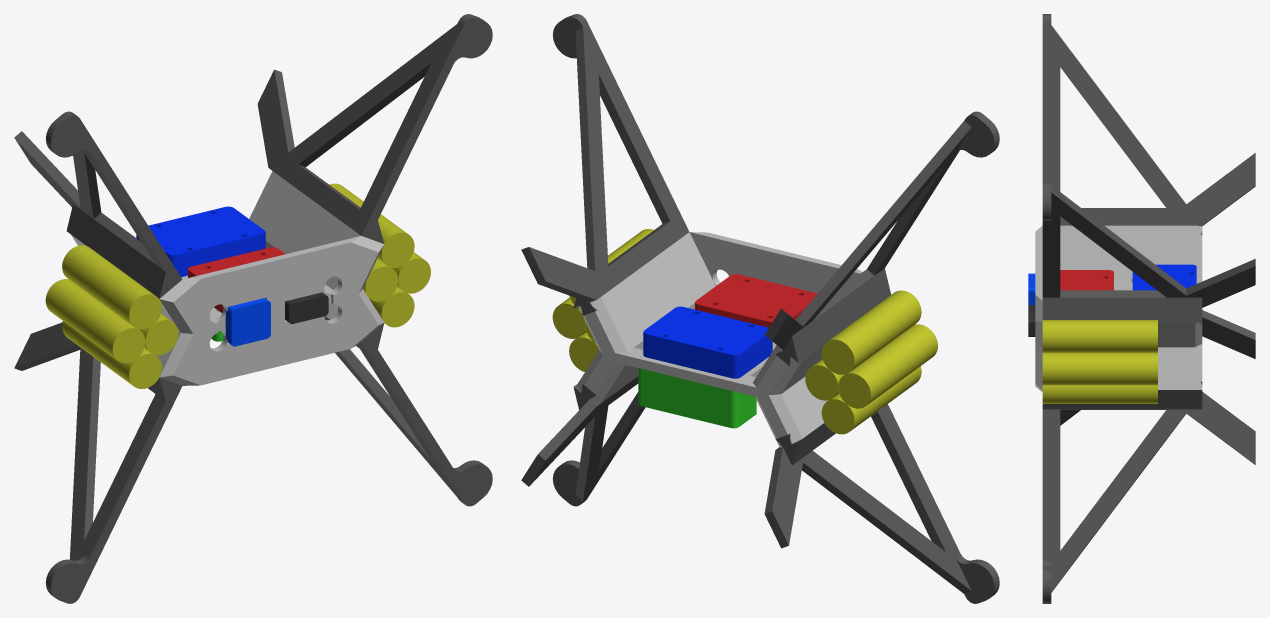
Rendered from swarmING.obj.
The picture shows the model from 3 angles, left to right: view 1: azimuth 30°, elevation 25°; view 2: azimuth 150°, elevation 25°; view 3: azimuth 270°, elevation 25°; orthographic projection. The views are drawn at different scales.
Visible parts, largest first — view 1: Solid1, Solid1:14, Solid1:15, Solid1:12, Solid1:13, Solid1:2, Solid1:6, Solid1:7, Solid1:5, Solid1:17, Solid1:9, Solid1:1 (+5 smaller); view 2: Solid1, Solid1:14, Solid1:15, Solid1:12, Solid1:2, Solid1:13, Solid1:3, Solid1:6, Solid1:7, Solid1:1, Solid1:5, Solid1:4 (+2 smaller); view 3: Solid1:14, Solid1:12, Solid1:13, Solid1, Solid1:11, Solid1:9, Solid1:10, Solid1:15, Solid1:1, Solid1:2.
Boxes of the visible parts, <box> form: Solid1: <box>71,171,384,385</box>; Solid1:14: <box>257,14,492,243</box>; Solid1:15: <box>14,322,182,603</box>; Solid1:12: <box>14,111,182,298</box>; Solid1:13: <box>324,316,492,506</box>; Solid1:2: <box>136,206,265,277</box>; Solid1:6: <box>62,245,161,329</box>; Solid1:7: <box>45,279,145,363</box>; Solid1:5: <box>62,321,161,388</box>; Solid1:17: <box>225,298,270,346</box>; Solid1:9: <box>329,183,414,267</box>; Solid1:1: <box>188,247,285,312</box>; Solid1: <box>577,232,862,447</box>; Solid1:14: <box>521,14,689,315</box>; Solid1:15: <box>764,404,999,603</box>; Solid1:12: <box>764,111,999,365</box>; Solid1:2: <box>643,306,772,378</box>; Solid1:13: <box>521,376,645,506</box>; Solid1:3: <box>638,368,756,428</box>; Solid1:6: <box>821,290,921,374</box>; Solid1:7: <box>838,324,937,408</box>; Solid1:1: <box>695,274,817,327</box>; Solid1:5: <box>821,366,921,434</box>; Solid1:4: <box>805,359,844,400</box>; Solid1:14: <box>1042,182,1255,323</box>; Solid1:12: <box>1042,14,1255,234</box>; Solid1:13: <box>1042,381,1255,603</box>; Solid1: <box>1035,225,1202,391</box>; Solid1:11: <box>1042,352,1157,385</box>; Solid1:9: <box>1042,320,1157,352</box>; Solid1:10: <box>1042,385,1157,403</box>; Solid1:15: <box>1060,310,1255,425</box>; Solid1:1: <box>1060,270,1113,290</box>; Solid1:2: <box>1132,264,1196,290</box>.
Size of the model in its own units: 247 by 261 by 128.
